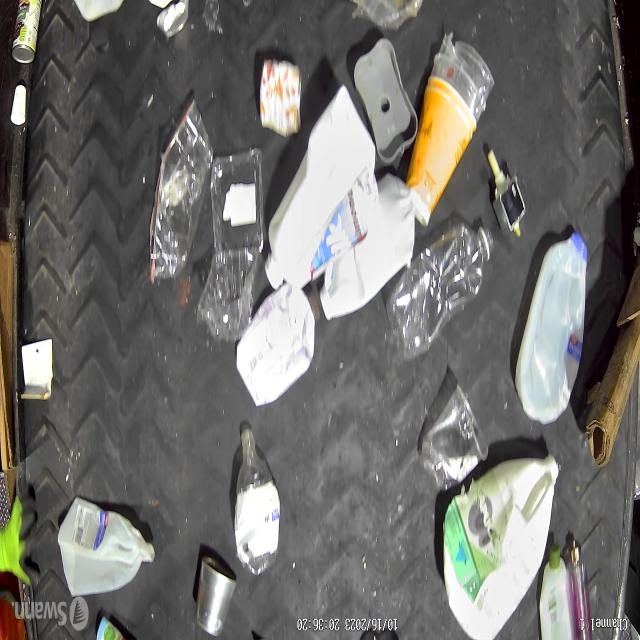can: (256, 53, 310, 151), (194, 552, 239, 640), (3, 0, 46, 74)
milk_jug: (264, 84, 374, 287), (318, 176, 420, 324), (519, 228, 587, 432), (55, 492, 155, 597)
non_white_jug: (438, 445, 558, 640)
plastic_bottle: (394, 224, 492, 357)
